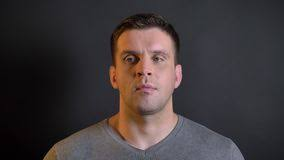white_male: (112, 37, 176, 105)
